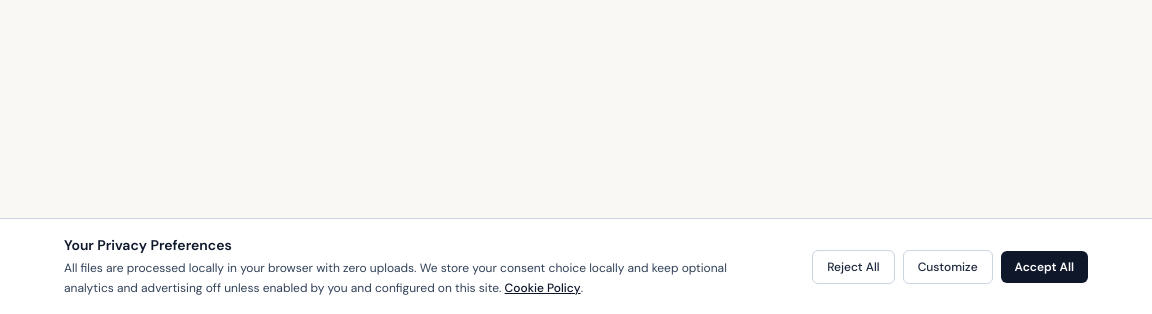
CookieConsentBanner › supports Accept All, Reject All, and reopening preferences via openConsentPreferences()
The width and height of the screenshot is (1152, 314).
Later steps or results of the test are not shown.
Step 1. Click the button "Accept All" → (1044, 266), box [1001,250,1088,282]
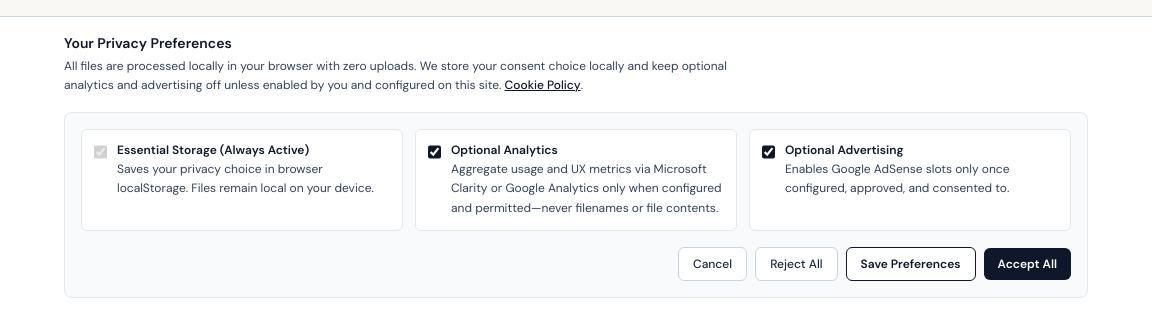
Check: the element with id "consent-preferences-panel" is shown, box [64,112,1088,298]
Check: the checkbox with id "consent-analytics" is checked, box [428,144,441,160]
Check: the checkbox with id "consent-ads" is checked, box [762,144,775,160]
